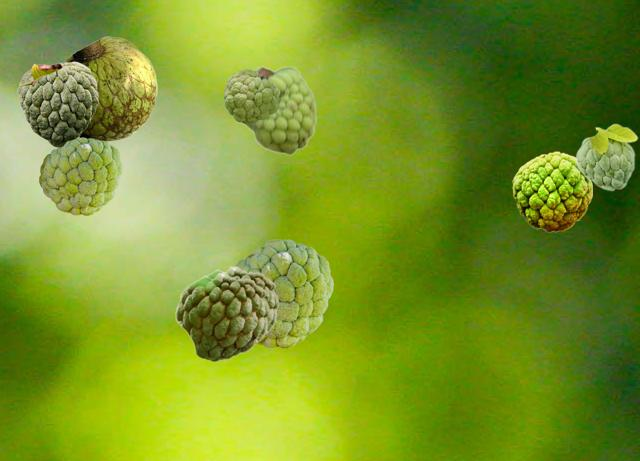atis: (236, 239, 332, 347), (64, 36, 156, 140), (174, 271, 269, 361), (239, 65, 316, 155), (17, 61, 97, 146), (512, 151, 591, 231), (39, 138, 121, 214), (207, 265, 278, 334), (575, 123, 637, 190), (224, 69, 277, 122)
